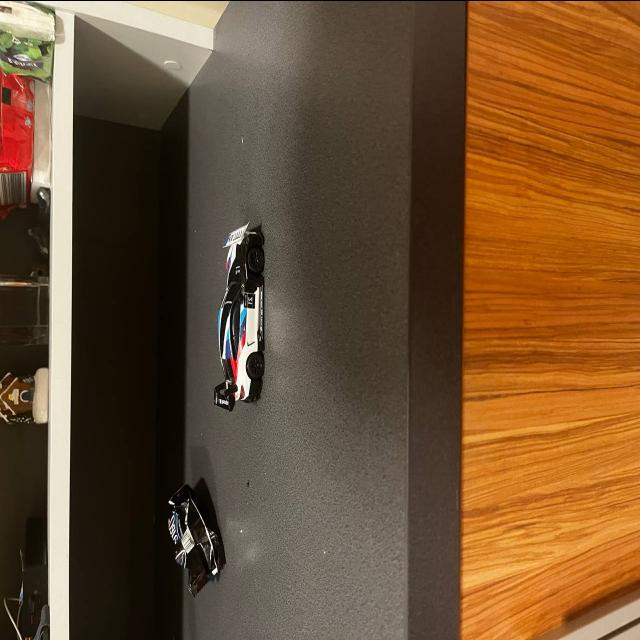cars: (208, 209, 270, 433)
